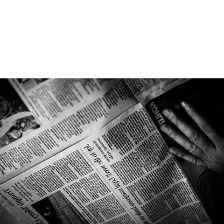news_paper: (0, 74, 224, 223), (0, 77, 183, 188)
